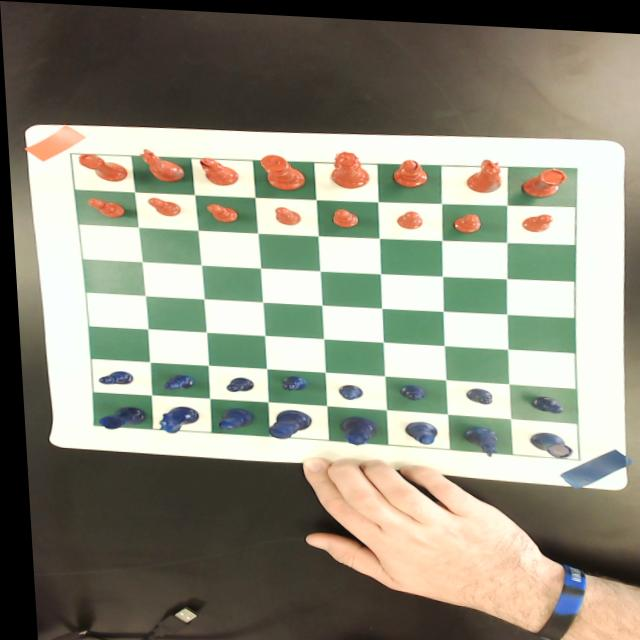B: (212, 404, 251, 428), (398, 415, 433, 441)
K: (262, 405, 308, 436)
N: (152, 403, 195, 432), (457, 421, 496, 451)
P: (524, 388, 562, 408), (92, 368, 130, 385), (157, 371, 192, 388), (459, 381, 490, 400), (219, 372, 250, 390), (393, 379, 422, 397), (275, 371, 304, 388), (332, 379, 361, 396)
Q: (334, 412, 373, 441)
R: (94, 403, 142, 429), (522, 425, 568, 452)
b: (389, 154, 431, 183), (197, 155, 238, 182)
k: (258, 151, 305, 187)
n: (134, 145, 184, 181), (462, 153, 504, 188)
p: (83, 196, 124, 217), (143, 195, 179, 214), (518, 207, 553, 226), (203, 200, 236, 219), (449, 207, 480, 227), (393, 205, 422, 224), (272, 203, 299, 223), (329, 204, 357, 223)
q: (327, 147, 369, 184)
r: (518, 160, 567, 192), (75, 151, 126, 181)
